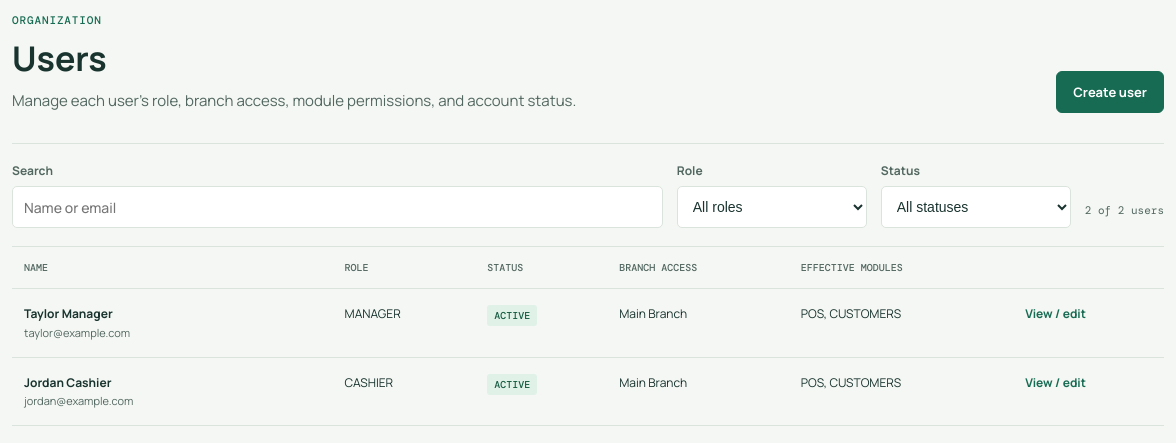
User Management pages › filters the complete organization list locally by role and name
Select "CASHIER" in the dropdown labelled "Role" at (772, 207), box left=677, top=186, right=867, bottom=228
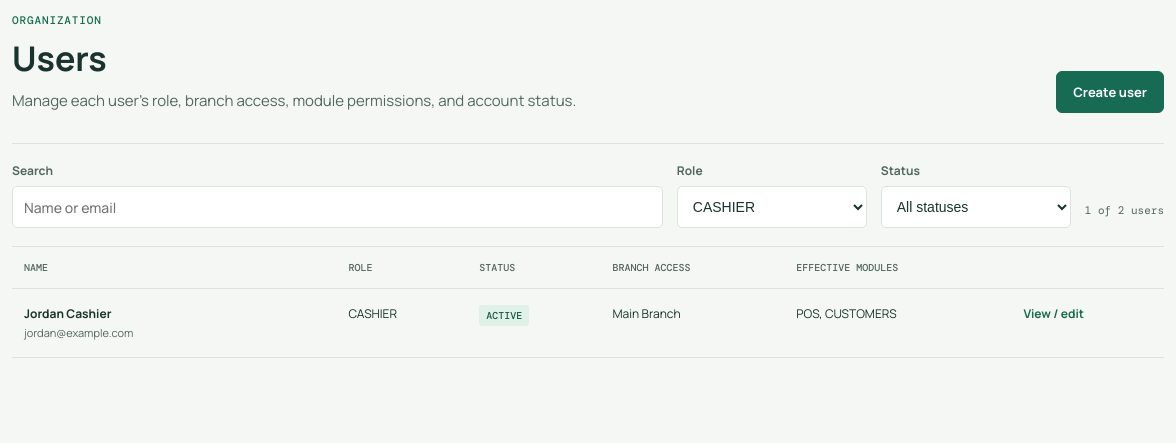
Expected: the text "Jordan Cashier" is shown, left=24, top=305, right=112, bottom=322
Expected: the text "Taylor Manager" is gone
Type "not-found@example.com" into the search field labelled "Search".
click(337, 207); type("not-found@example.com")  # box left=12, top=186, right=663, bottom=228
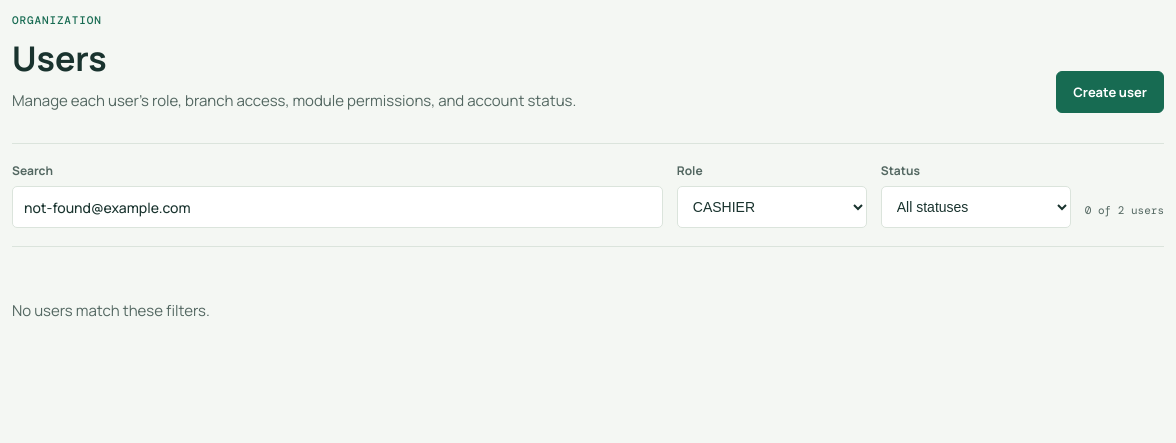
Expected: the text "No users match these filters." is shown, left=12, top=300, right=210, bottom=321
